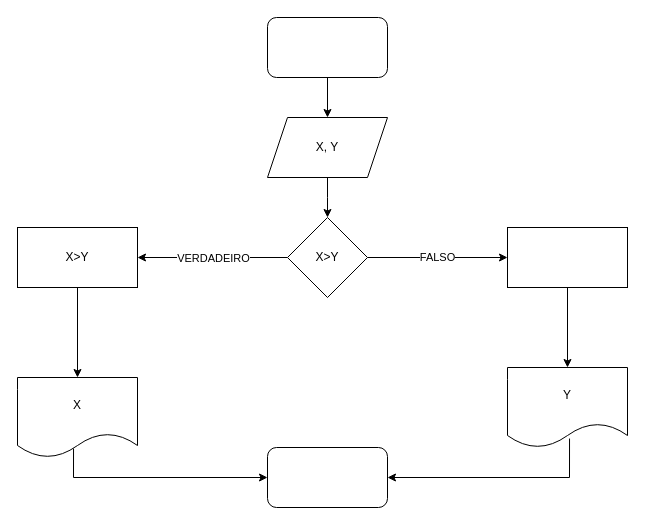
Image size: 645x525. Some labels were removed from this diagram. The box of each missing label's shape, as (x1, y1, x2, y2) in pixels:
Entrada: (266, 16, 388, 78)
FIM: (266, 446, 388, 508)
X<Y: (506, 226, 628, 288)
